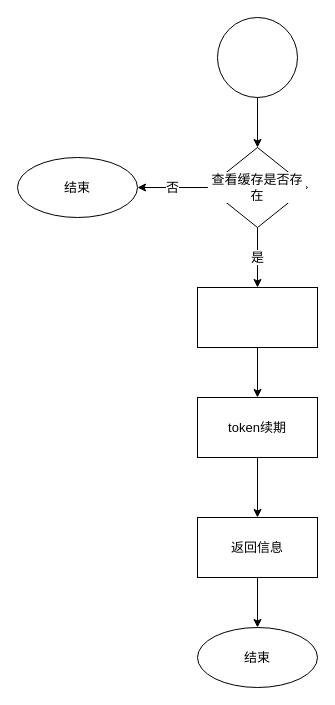
Some shapes in this 335 by 705 pixel diagram are drawn without their labels. The box of each missing label's shape, as (x1, y1, x2, y2) in pixels:
token登录: (216, 16, 298, 98)
获取缓存信息: (196, 286, 318, 348)
